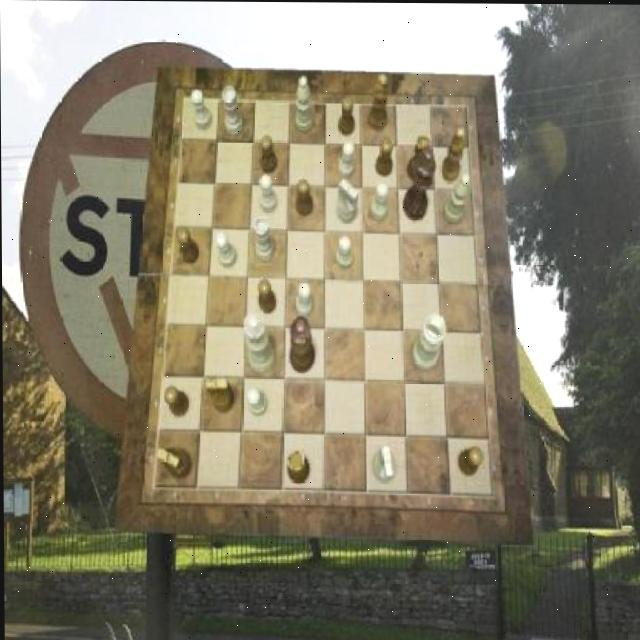bishop: (441, 127, 466, 182), (368, 75, 388, 131)
black-bishop: (402, 146, 437, 220)
black-king: (156, 447, 192, 480), (205, 376, 233, 411)
black-knight: (164, 385, 189, 417), (177, 227, 198, 263), (458, 446, 482, 475), (375, 137, 392, 175), (338, 96, 355, 134), (257, 278, 275, 313), (261, 134, 278, 171), (297, 180, 314, 216)
black-pawn: (290, 315, 316, 373)
black-queen: (407, 135, 431, 181), (287, 449, 310, 483)
black-rook: (442, 174, 470, 223), (294, 76, 314, 132)
white-bishop: (411, 313, 447, 371)
white-king: (336, 177, 359, 222), (374, 445, 397, 481)
white-knight: (192, 89, 212, 129), (215, 231, 236, 267), (370, 181, 388, 219), (338, 140, 355, 179), (260, 174, 277, 212), (335, 236, 353, 270), (296, 282, 313, 317), (247, 388, 267, 415)
white-pawn: (245, 312, 276, 373)
white-queen: (222, 86, 243, 135), (255, 217, 276, 262)
